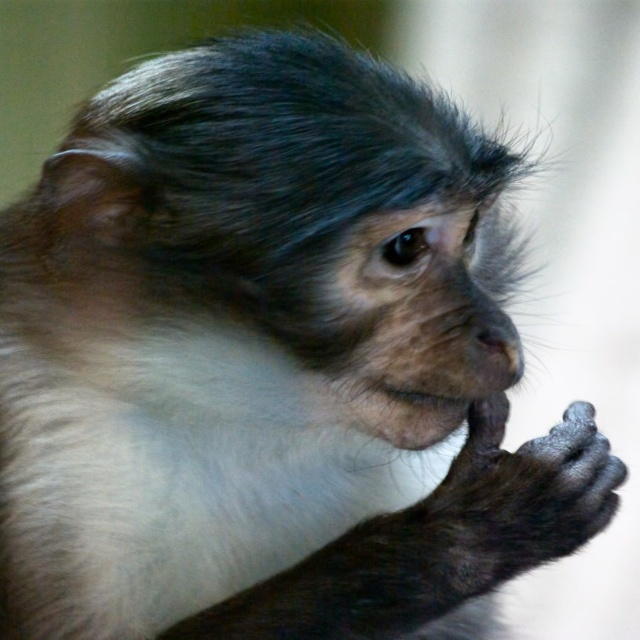Monkey: (0, 9, 633, 640)
